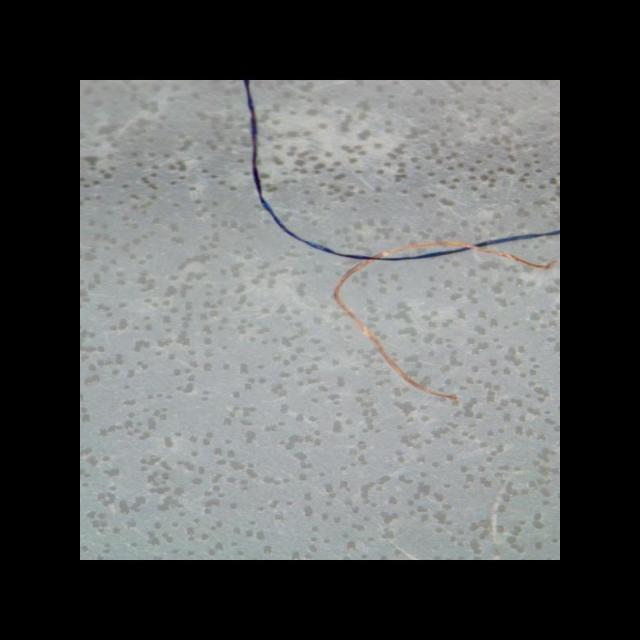Fibre: (244, 80, 560, 264), (330, 238, 560, 404)
